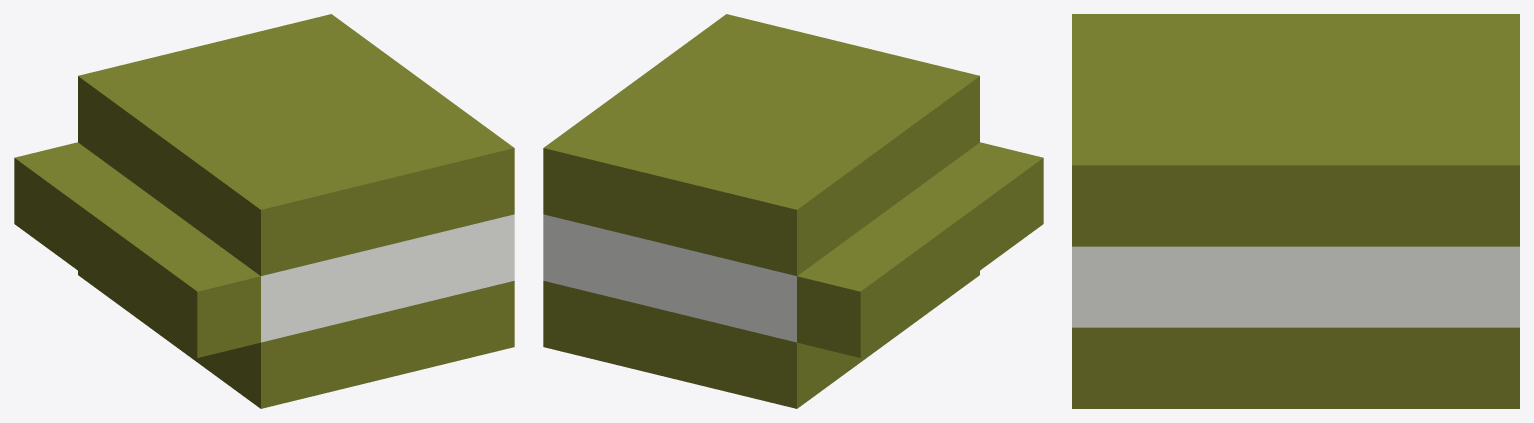
File: book1.obj
The picture shows the model from 3 angles, left to right: view 1: azimuth 30°, elevation 25°; view 2: azimuth 150°, elevation 25°; view 3: azimuth 270°, elevation 25°; orthographic projection. The views are drawn at different scales.
Size of the model in its own units: 0.5 by 0.3 by 0.5.
Materials: 1 (1 with a texture image).
